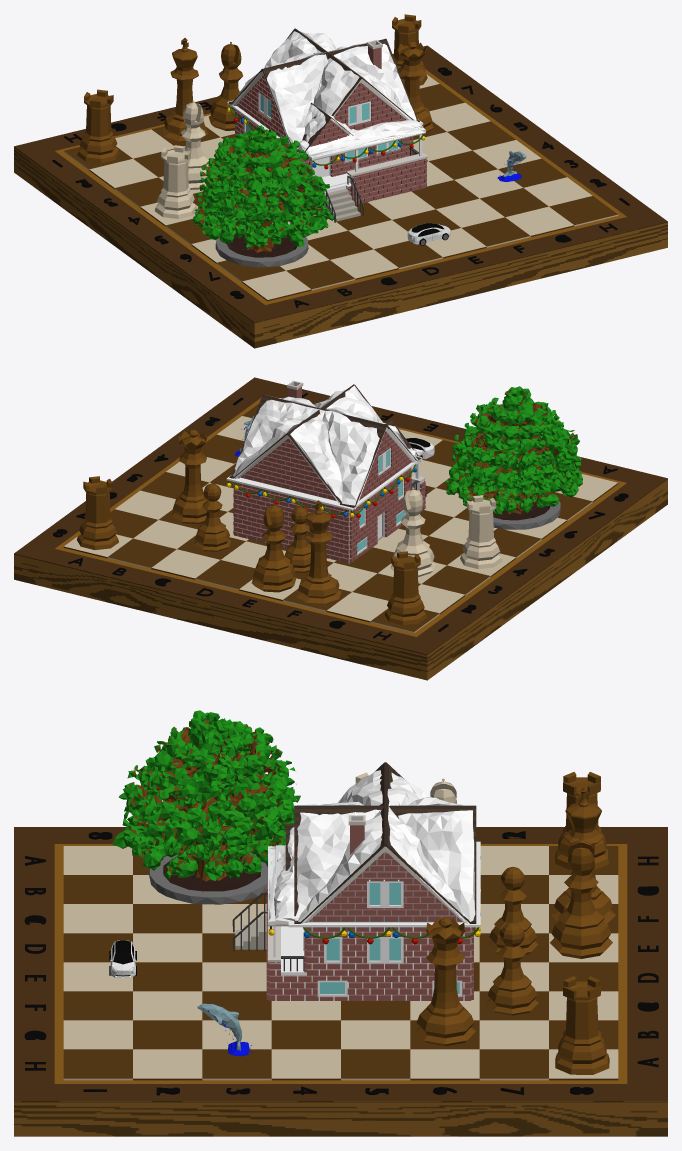
The picture shows the model from 3 angles, top to bottom: view 1: azimuth 30°, elevation 25°; view 2: azimuth 150°, elevation 25°; view 3: azimuth 270°, elevation 25°; orthographic projection. The views are drawn at different scales.
Parts seen in each view (by area): view 1: Cube.002, Cube.1419, OBJRANDOM_CEIBA, VEHICLES_TESLA; view 2: Cube.002, Cube.1419, OBJRANDOM_CEIBA; view 3: Cube.002, Cube.1419, OBJRANDOM_CEIBA, ANIMAL_DELFIN, VEHICLES_TESLA.
Boxes of the visible parts, x1,y1,x2,y2 form: Cube.002: (14,14,667,348); Cube.1419: (227,28,428,222); OBJRANDOM_CEIBA: (193,125,334,267); VEHICLES_TESLA: (407,223,450,245); Cube.002: (14,377,667,680); Cube.1419: (226,380,426,563); OBJRANDOM_CEIBA: (445,386,582,529); Cube.002: (14,772,667,1136); Cube.1419: (232,762,480,1000); OBJRANDOM_CEIBA: (112,710,300,904); ANIMAL_DELFIN: (197,1003,251,1056); VEHICLES_TESLA: (109,940,136,977).
Bounding box in the file's own units: 3981 × 1636 × 4012.
40 materials, 2 textured.
